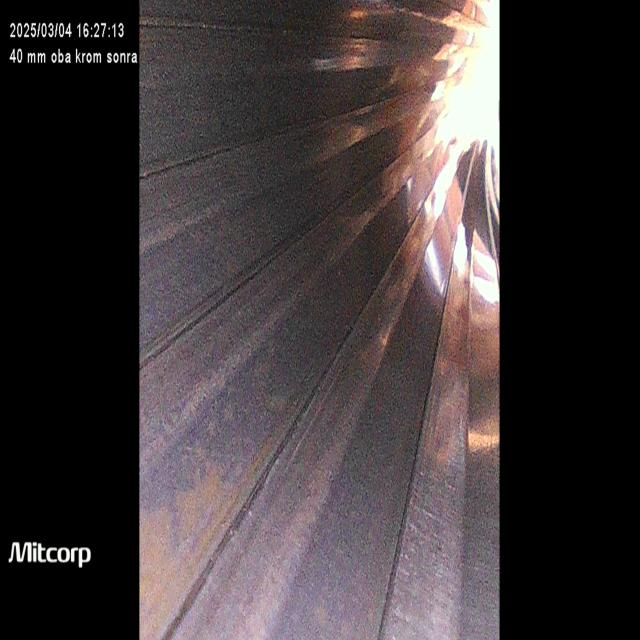hata_4.2: (139, 334, 322, 640), (211, 367, 374, 640)
